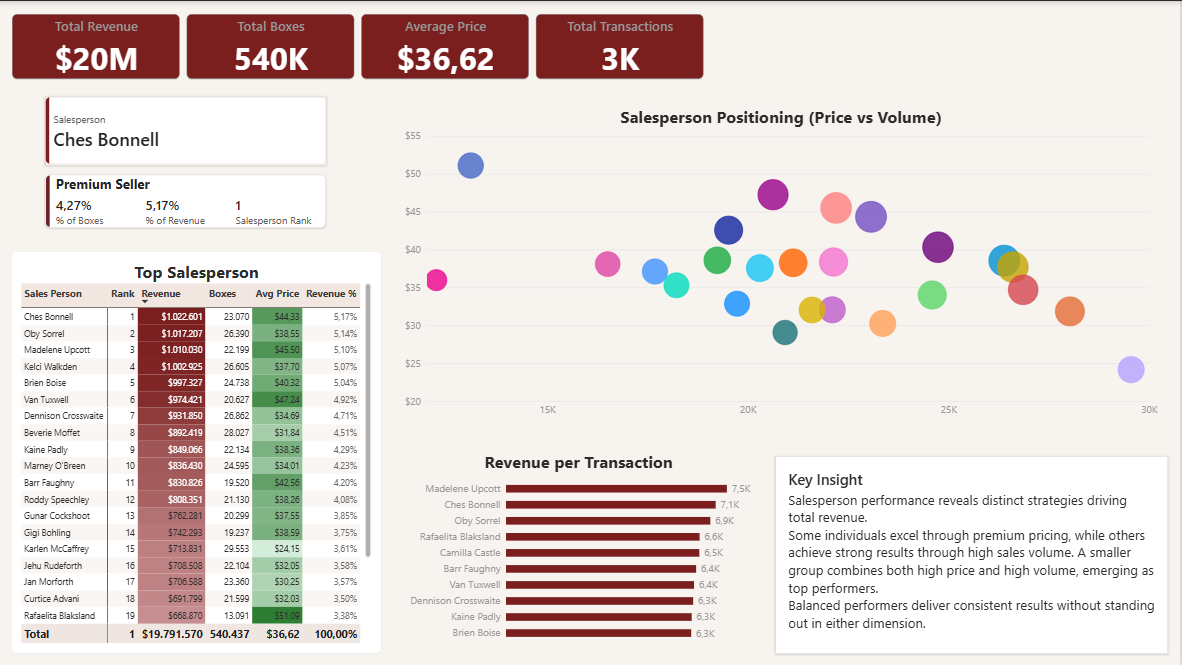

What the dashboard file says about the page in this screenshot:
{"tool":"powerbi","page":{"name":"Salesperson","canvas":[1920,1080],"ordinal":1},"visuals":[{"type":"multiRowCard","title":"Performance Overview:","fields":{"Values":["Measure Table.% of Boxes","Measure Table.% of Revenue","Measure Table.Performance Type","Measure Table.Salesperson Rank"]},"box":[76.1,283.7,455.5,85],"z":0,"group":"g1"},{"type":"pivotTable","title":"Top Salesperson","fields":{"Rows":["choco_sales (1).Sales Person"],"Values":["Measure Table.Performance Rank","Measure Table.Total Revenue","Measure Table.Total Boxes","Measure Table.Average Price","Measure Table.% of Revenue"]},"box":[19.5,407.4,602.6,653.9],"z":0},{"type":"cardVisual","title":"Salesperson:","fields":{"Data":["Min(choco_sales (1).Sales Person)"]},"box":[75.6,156.1,456.2,109.8],"z":1000,"group":"g1"},{"type":"scatterChart","title":"Salesperson Positioning (Price vs Volume)","fields":{"Series":["choco_sales (1).Sales Person"],"Size":["Measure Table.Total Revenue"],"X":["Measure Table.Total Boxes"],"Y":["Measure Table.Average Price"]},"box":[644,156.1,1256.5,541.6],"z":1000},{"type":"clusteredBarChart","title":"Revenue per Transaction","fields":{"Category":["choco_sales (1).Sales Person"],"Y":["Measure Table.Average Revenue per Transaction"]},"box":[641.7,717.3,602.6,344],"z":2000},{"type":"textbox","title":"Key Insight","box":[1263.8,741,636.8,319.6],"z":3000},{"type":"cardVisual","fields":{"Data":["Measure Table.Total Revenue","Measure Table.Total Boxes","Measure Table.Average Price","Measure Table.Total Transactions"]},"box":[20,20,1129.6,109.8],"z":4000},{"type":"group","id":"g1","title":"KPIs","box":[75.6,156.1,456.2,212.3],"z":5000}]}

Visuals, with their boxes in screenshot pixels (x1, y1, x2, y2), scaled from the page's 1920x1080 canvas onto the 1182x665 screenshot:
"Performance Overview:" multiRowCard: {"left": 47, "top": 175, "right": 327, "bottom": 227}
"Top Salesperson" pivotTable: {"left": 12, "top": 251, "right": 383, "bottom": 653}
"Salesperson:" cardVisual: {"left": 47, "top": 96, "right": 327, "bottom": 164}
"Salesperson Positioning (Price vs Volume)" scatterChart: {"left": 396, "top": 96, "right": 1170, "bottom": 430}
"Revenue per Transaction" clusteredBarChart: {"left": 395, "top": 442, "right": 766, "bottom": 653}
"Key Insight" textbox: {"left": 778, "top": 456, "right": 1170, "bottom": 653}
cardVisual - Measure Table.Total Revenue x Measure Table.Total Boxes: {"left": 12, "top": 12, "right": 708, "bottom": 80}
"KPIs" group: {"left": 47, "top": 96, "right": 327, "bottom": 227}
